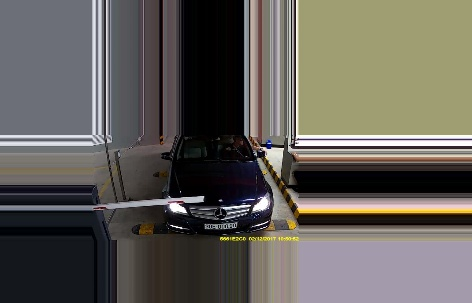plate: (202, 219, 238, 229)
